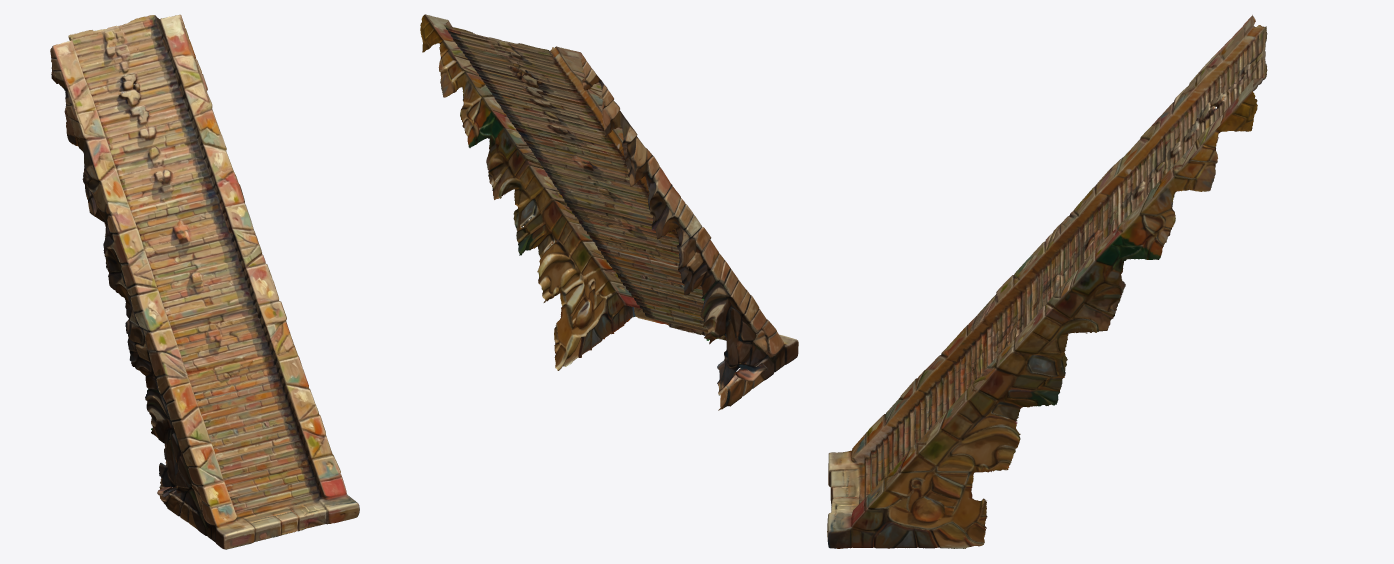
The picture shows the model from 3 angles, left to right: view 1: azimuth 30°, elevation 25°; view 2: azimuth 150°, elevation 25°; view 3: azimuth 270°, elevation 25°; orthographic projection. The views are drawn at different scales.
Visible parts, largest first — view 1: Mesh_0; view 2: Mesh_0; view 3: Mesh_0.
Part boxes in pixels (x1=…): Mesh_0: x1=50, y1=14, x2=359, y2=549; Mesh_0: x1=420, y1=14, x2=798, y2=410; Mesh_0: x1=827, y1=15, x2=1267, y2=548.
Size of the model in its own units: 39.04 by 92.23 by 100.
Materials: 1 (1 with a texture image).
